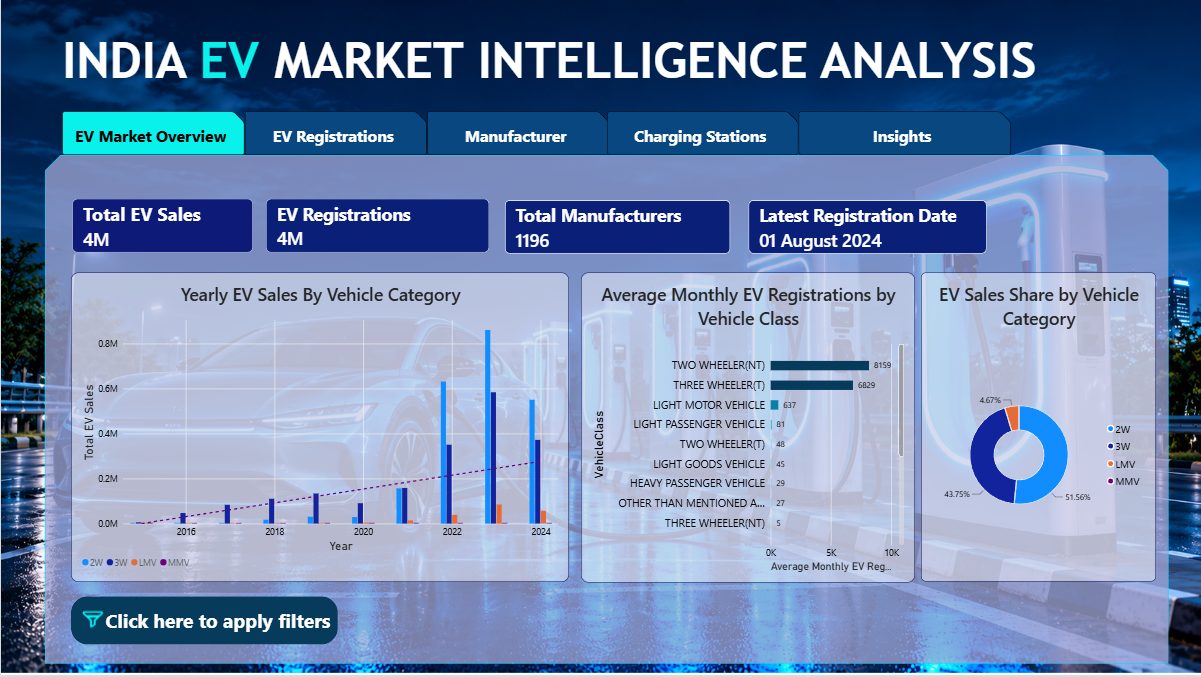

What the dashboard file says about the page in this screenshot:
{"tool":"powerbi","page":{"name":"EV Market Overview","canvas":[1920,1080],"ordinal":0},"visuals":[{"type":"shape","box":[70,248,1798,814],"z":0},{"type":"textbox","box":[98,50,1622,192],"z":1000},{"type":"cardVisual","fields":{"Data":["DAX_Measures_Tbl.Total_EV_Sales"]},"box":[114,318,289.5,86.9],"z":2000},{"type":"cardVisual","fields":{"Data":["DAX_Measures_Tbl.Total EV Registrations"]},"box":[424,318,357.1,86.6],"z":3000},{"type":"cardVisual","fields":{"Data":["DAX_Measures_Tbl.Total Manufacturers"]},"box":[806,320,361.9,86.9],"z":4000},{"type":"cardVisual","fields":{"Data":["DAX_Measures_Tbl.Latest Registration Date"]},"box":[1196,320,381.8,86.9],"z":5000},{"type":"lineClusteredColumnComboChart","title":"Yearly EV Sales By Vehicle Category","fields":{"Category":["DimYear.Year"],"Series":["DimVehicleCategory.VehicleCategory"],"Y":["DAX_Measures_Tbl.Total EV Sales"]},"box":[112.3,436.2,796.9,495.1],"z":6000},{"type":"clusteredBarChart","title":"Average Monthly EV Registrations by Vehicle Class","fields":{"Category":["FactMonthlyEVRegistrations.VehicleClass"],"Y":["DAX_Measures_Tbl.Average Monthly EV Registrations"]},"box":[928,436,534,496],"z":7000},{"type":"donutChart","title":"EV Sales Share by Vehicle Category","fields":{"Category":["DimVehicleCategory.VehicleCategory"],"Y":["DAX_Measures_Tbl.EV Sales Share %"]},"box":[1472,436,376,494],"z":8000},{"type":"actionButton","box":[112,954,427,77.3],"z":9000},{"type":"actionButton","box":[98,178,291.7,70],"z":15000},{"type":"actionButton","box":[390,178,291.7,70],"z":16000},{"type":"actionButton","box":[682,178,291.7,70],"z":17000},{"type":"textbox","box":[692,196,104,90],"z":18000},{"type":"actionButton","box":[970,178,306,70],"z":19000},{"type":"actionButton","box":[1276,178,340,70],"z":20000}]}

Visuals, with their boxes in screenshot pixels (x1, y1, x2, y2), scaled from the page's 1920x1080 canvas onto the 1201x677 screenshot:
shape: rect(44, 155, 1168, 666)
textbox: rect(61, 31, 1076, 152)
cardVisual - DAX_Measures_Tbl.Total_EV_Sales: rect(71, 199, 252, 254)
cardVisual - DAX_Measures_Tbl.Total EV Registrations: rect(265, 199, 489, 254)
cardVisual - DAX_Measures_Tbl.Total Manufacturers: rect(504, 201, 731, 255)
cardVisual - DAX_Measures_Tbl.Latest Registration Date: rect(748, 201, 987, 255)
"Yearly EV Sales By Vehicle Category" lineClusteredColumnComboChart: rect(70, 273, 569, 584)
"Average Monthly EV Registrations by Vehicle Class" clusteredBarChart: rect(580, 273, 915, 584)
"EV Sales Share by Vehicle Category" donutChart: rect(921, 273, 1156, 583)
actionButton: rect(70, 598, 337, 646)
actionButton: rect(61, 112, 244, 155)
actionButton: rect(244, 112, 426, 155)
actionButton: rect(427, 112, 609, 155)
textbox: rect(433, 123, 498, 179)
actionButton: rect(607, 112, 798, 155)
actionButton: rect(798, 112, 1011, 155)
